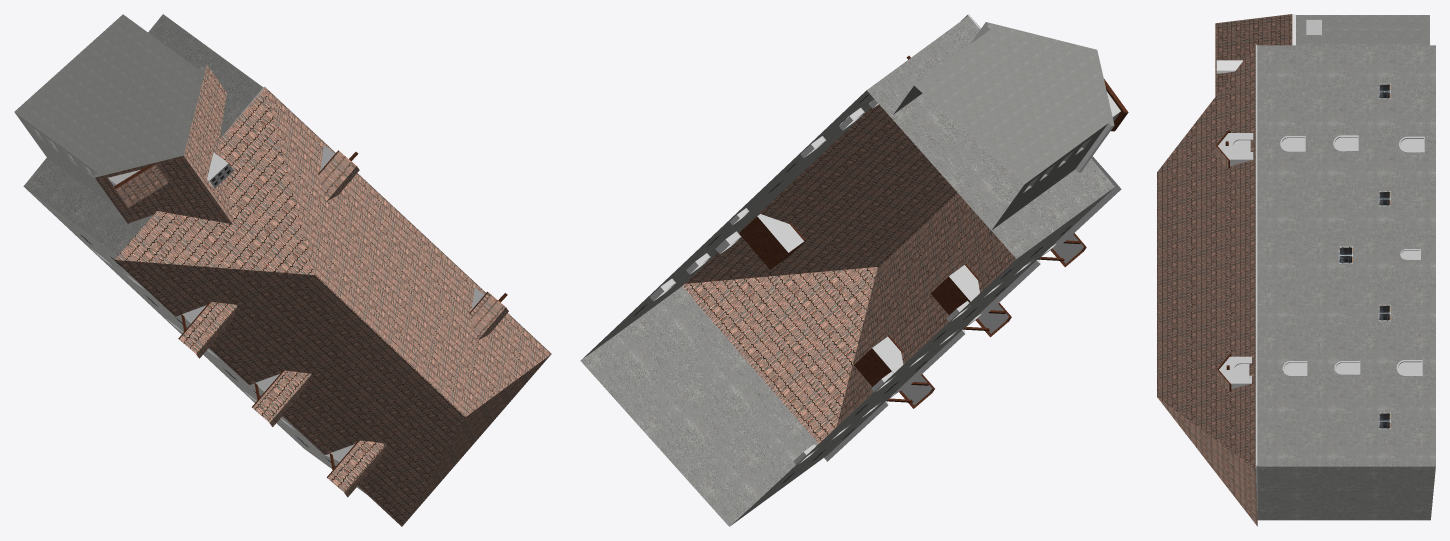
Rendered from Aida_5.obj.
3 renders of one model, left to right at view 1: azimuth 30°, elevation 25°; view 2: azimuth 150°, elevation 25°; view 3: azimuth 270°, elevation 25°, orthographic. The views are drawn at different scales.
Parts seen in each view (by area): view 1: Mesh_Aida_5; view 2: Mesh_Aida_5; view 3: Mesh_Aida_5.
Boxes of the visible parts, bbox=[...] form: Mesh_Aida_5: bbox=[14, 14, 551, 526]; Mesh_Aida_5: bbox=[580, 14, 1128, 526]; Mesh_Aida_5: bbox=[1157, 14, 1435, 526].
Bounding box in the file's own units: 38.65 × 40.85 × 23.64.
